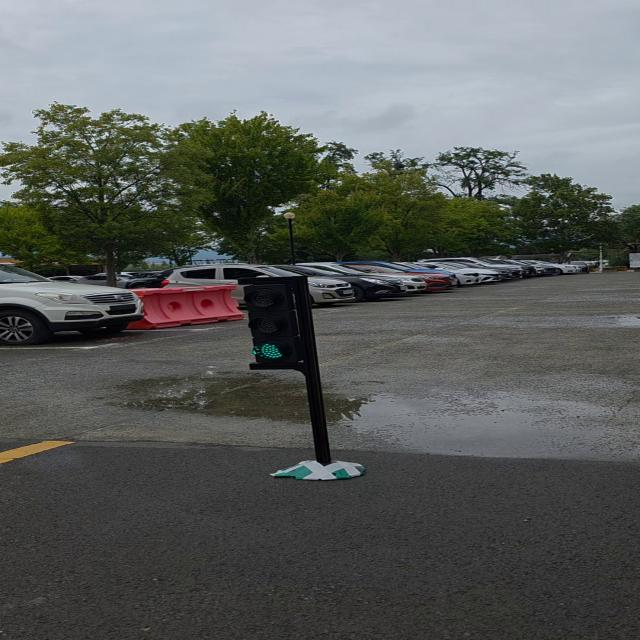green: (245, 278, 314, 369)
